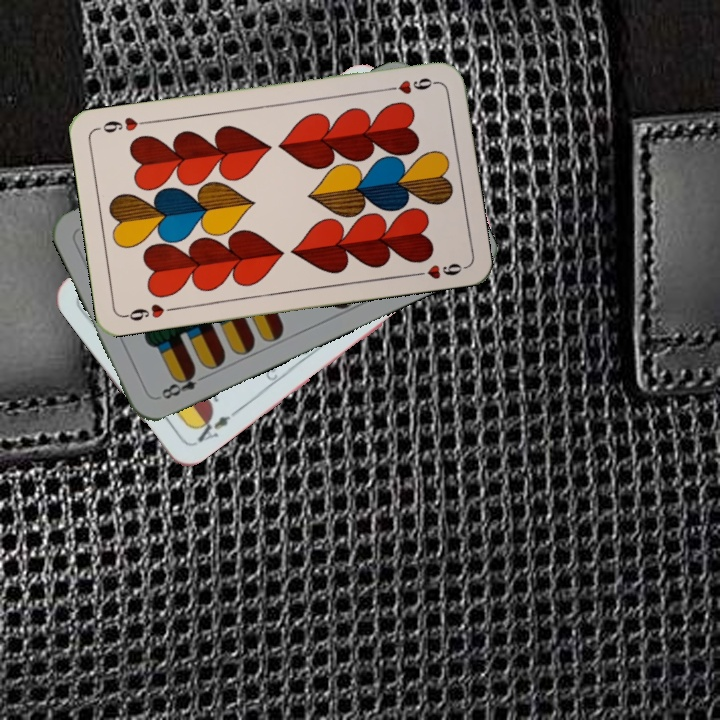E8: (153, 365, 210, 402)
EA: (189, 406, 240, 448)
H9: (120, 300, 179, 324), (381, 73, 440, 97)
